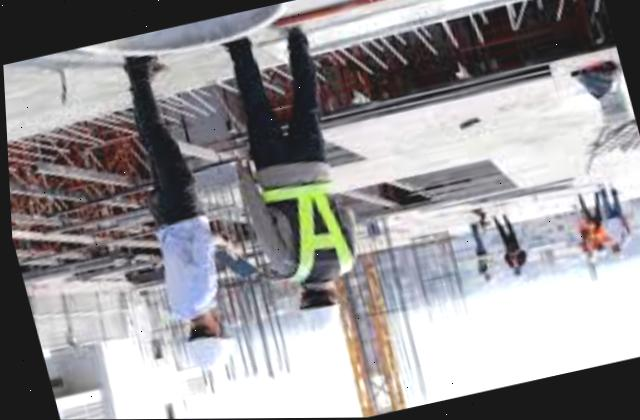helmet: (281, 286, 347, 341), (175, 327, 244, 373), (606, 244, 625, 263), (588, 243, 606, 263)
vest: (251, 169, 371, 295), (464, 252, 487, 278)
